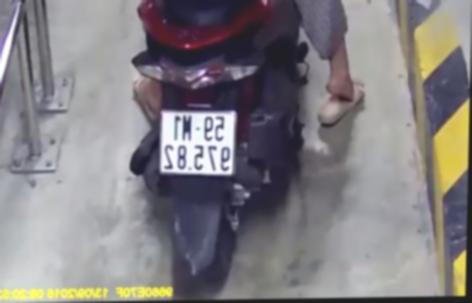License_Plate: (154, 105, 244, 180)
